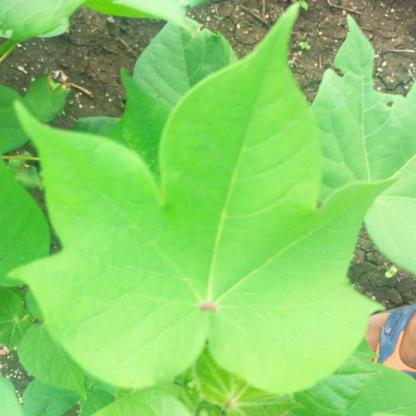cotton: (9, 6, 386, 391)
